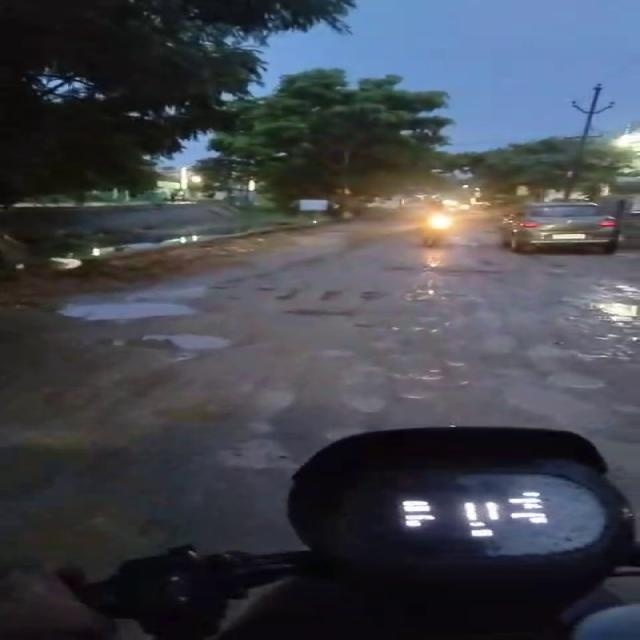pothole: (58, 297, 196, 324), (496, 380, 592, 412), (590, 302, 639, 344), (211, 438, 277, 468), (141, 332, 225, 350), (541, 367, 599, 391), (526, 343, 607, 360), (258, 380, 300, 408), (330, 394, 385, 412), (479, 329, 515, 352), (290, 310, 352, 318), (617, 282, 639, 303), (394, 387, 427, 399), (414, 371, 446, 383), (241, 420, 266, 434), (403, 292, 414, 300), (424, 289, 438, 295), (417, 294, 428, 300), (414, 288, 427, 293), (596, 335, 609, 340), (605, 334, 620, 338), (415, 326, 424, 331), (391, 327, 402, 331), (429, 329, 438, 333)
